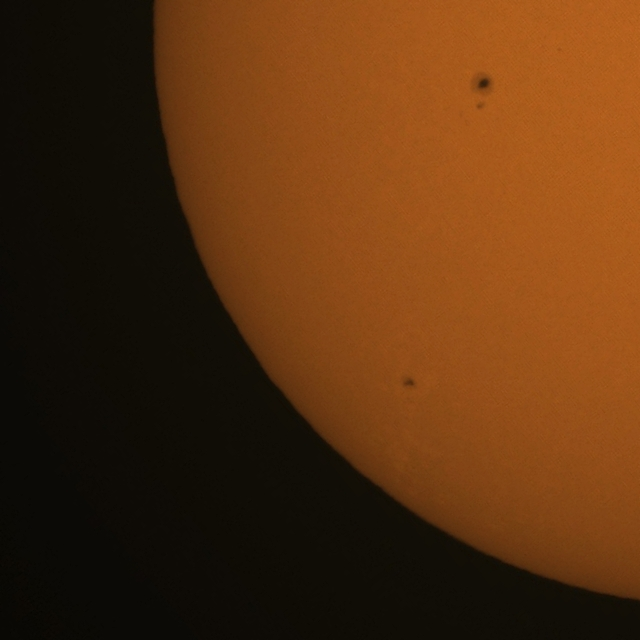sunspot: (472, 76, 492, 110), (402, 376, 417, 390), (474, 100, 486, 111)
